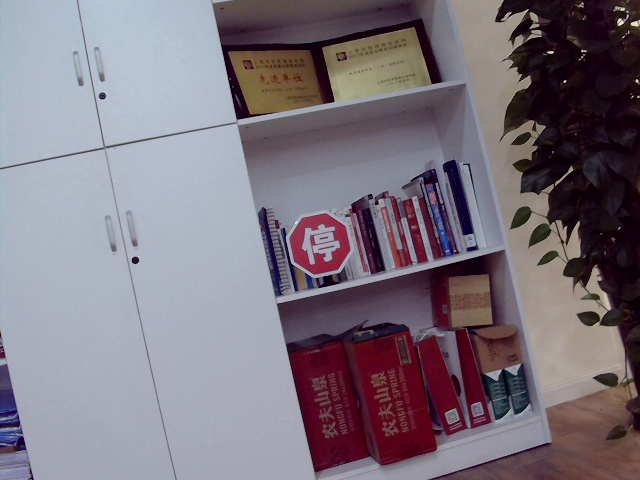stop: (299, 222, 339, 263)
